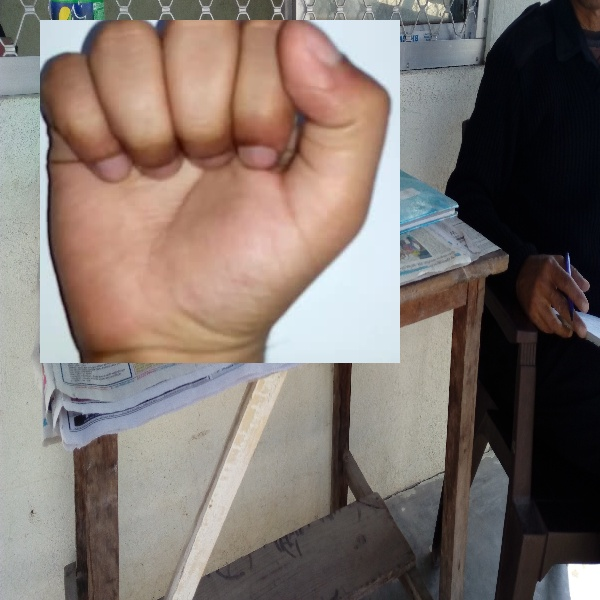A: (40, 20, 400, 363)
